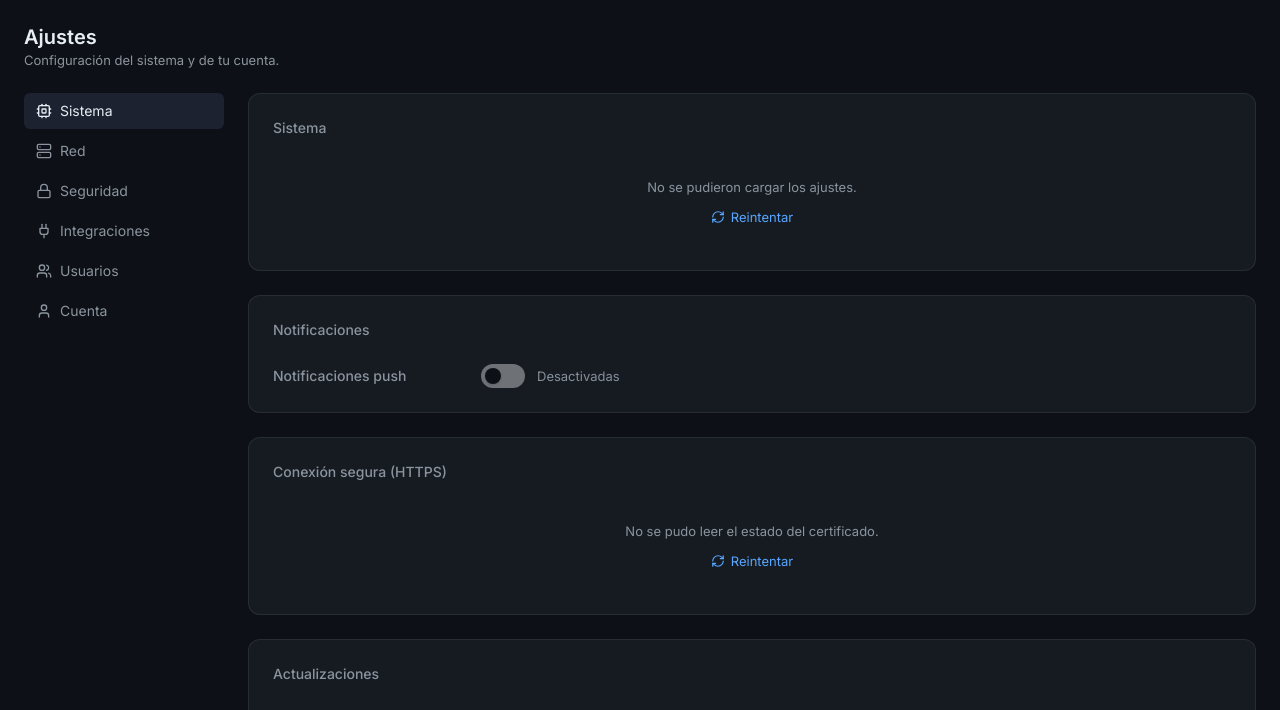
Test: SettingsPage › con /system/settings caído o pendiente › Integraciones conserva sus tarjetas y suma el aviso de fallo
Click the button "Integraciones" at (124, 231), box [24,213,224,249]
(page scrolled)
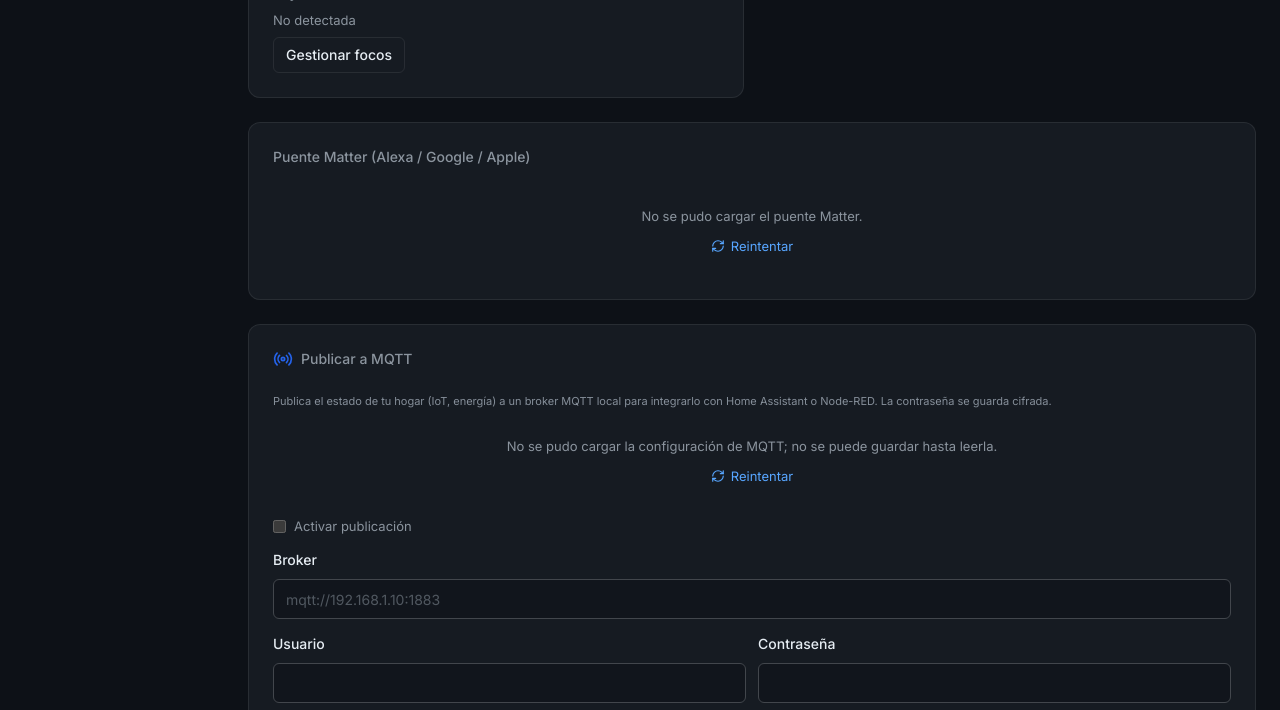
Now the heading "Puente Matter (Alexa / Google / Apple)" is shown, box [273,148,530,165]
Now the heading "Publicar a MQTT" is shown, box [273,349,412,369]
